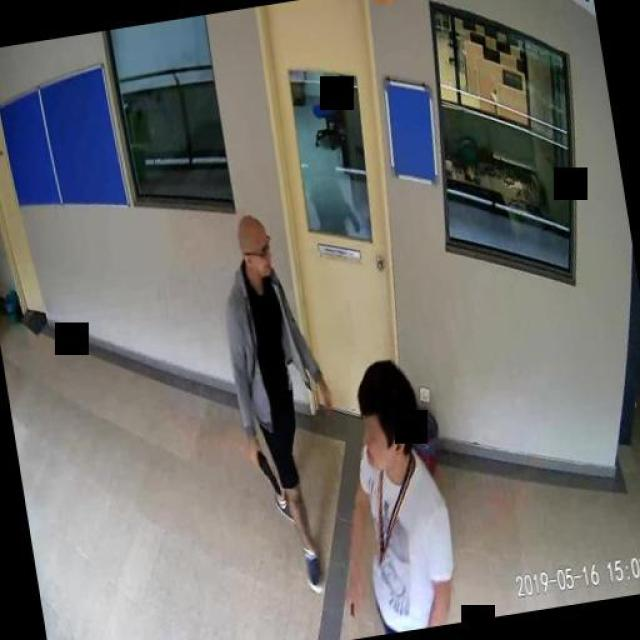gun: (248, 442, 278, 498)
